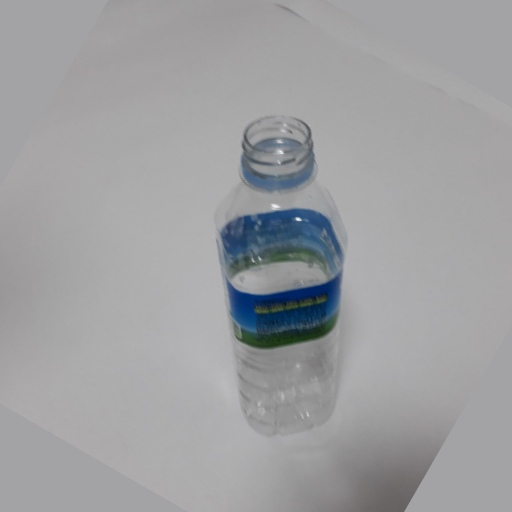Plastic_0: (211, 115, 356, 445)
